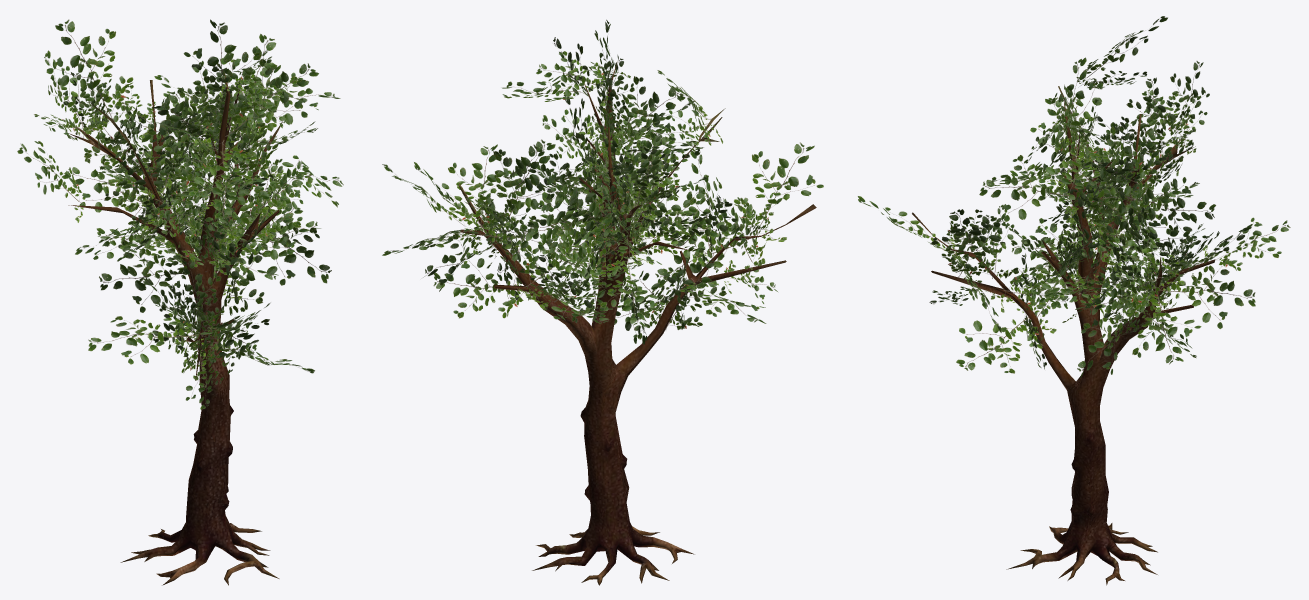
File: tree_1.glb
3 renders of one model, left to right at view 1: azimuth 30°, elevation 25°; view 2: azimuth 150°, elevation 25°; view 3: azimuth 270°, elevation 25°, orthographic. The views are drawn at different scales.
Parts seen in each view (by area): view 1: tree; view 2: tree; view 3: tree.
Boxes of the visible parts, x1,y1,x2,y2 form: tree: [17, 19, 343, 585]; tree: [382, 19, 823, 585]; tree: [857, 16, 1290, 585].
Bounding box in the file's own units: 9.8 × 14.67 × 11.57.
2 materials, 2 textured.
